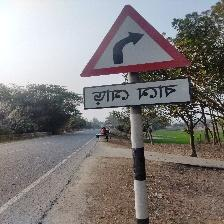Left-Turn: (80, 4, 194, 109)
